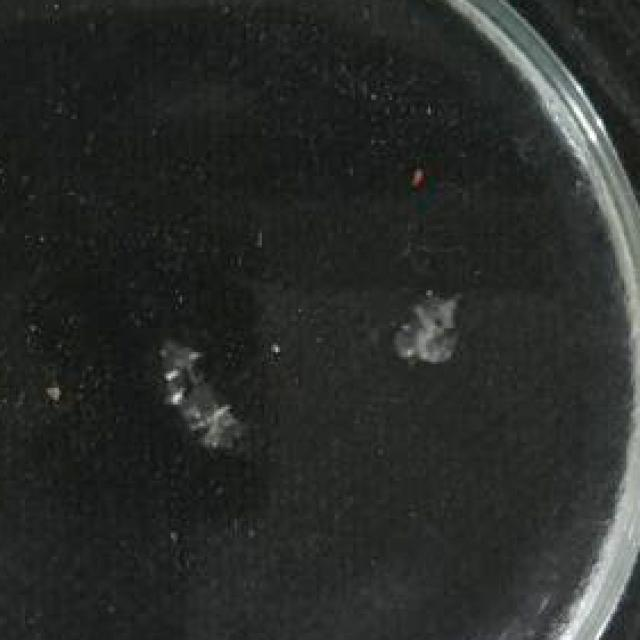Microplastic: (148, 328, 246, 457), (383, 281, 467, 369)
